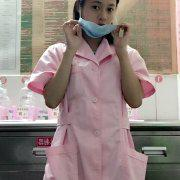WRONG: (82, 1, 119, 38)
